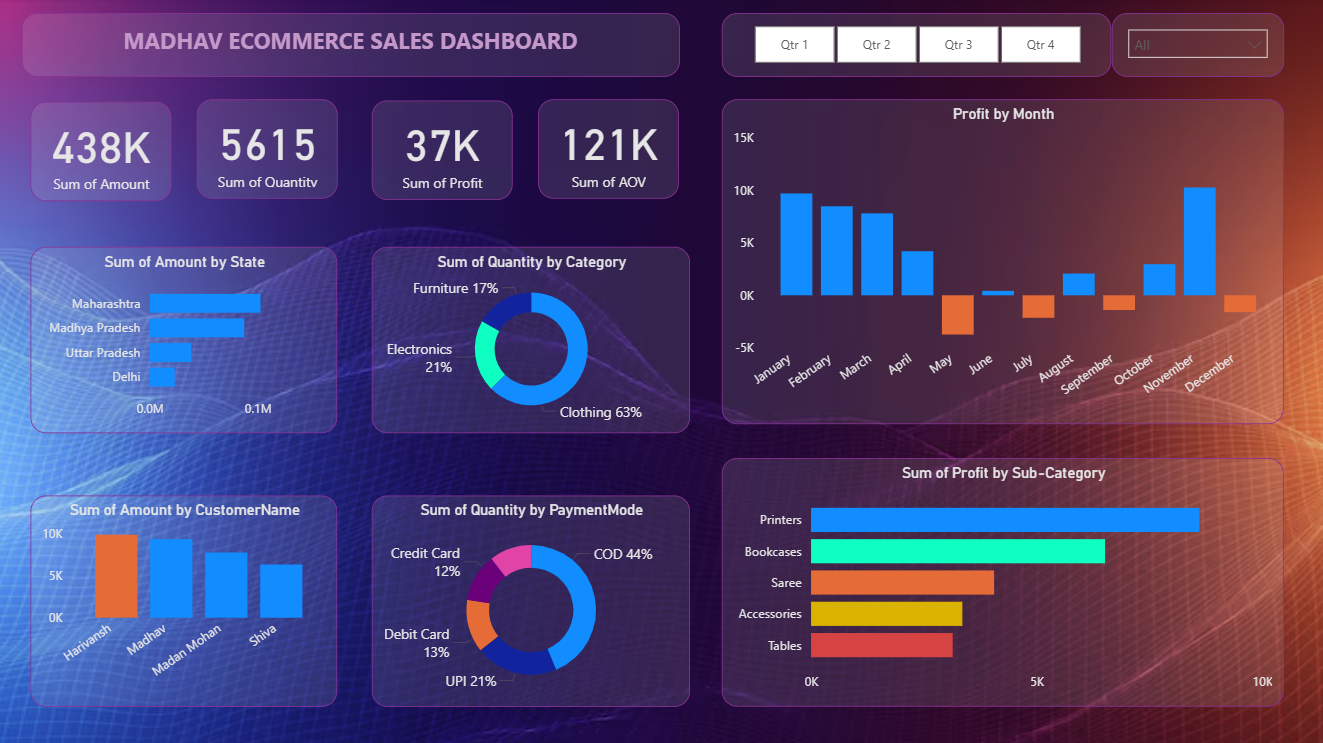

Layout of this report page (visuals, bound fields, positions):
{"tool":"powerbi","page":{"name":"Page 1","canvas":[1280,720],"ordinal":0},"visuals":[{"type":"textbox","box":[22.5,15,635,61.2],"z":0},{"type":"columnChart","title":"Profit by Month","fields":{"Category":["Orders.Order Date.Variation.Date Hierarchy.Month"],"Y":["Details.Profit"]},"box":[698.8,97.5,542.5,313.8],"z":1000},{"type":"barChart","fields":{"Category":["Details.Sub-Category"],"Y":["Details.Profit"]},"box":[698.8,443.8,542.5,240],"z":2000},{"type":"donutChart","fields":{"Category":["Details.Category"],"Y":["Details.Quantity"]},"box":[361.2,240,307.5,180],"z":3000},{"type":"donutChart","fields":{"Y":["Details.Quantity"],"Category":["Details.PaymentMode"]},"box":[361.2,480,307.5,203.8],"z":4000},{"type":"card","fields":{"Values":["Details.Amount"]},"box":[31.2,100,136.2,96.2],"z":5000},{"type":"card","fields":{"Values":["Details.Quantity"]},"box":[191.2,97.5,136.2,96.2],"z":6000},{"type":"card","fields":{"Values":["Details.Profit"]},"box":[361.2,98.8,136.2,96.2],"z":7000},{"type":"card","fields":{"Values":["Details.AOV"]},"box":[521.2,97.5,136.2,96.2],"z":8000},{"type":"barChart","fields":{"Category":["Orders.State"],"Y":["Details.Amount"]},"box":[31.2,240,296.2,180],"z":9000},{"type":"columnChart","fields":{"Category":["Orders.CustomerName"],"Y":["Details.Amount"]},"box":[31.2,480,296.2,203.8],"z":10000},{"type":"slicer","fields":{"Values":["Orders.Order Date.Variation.Date Hierarchy.Quarter"]},"box":[698.8,15,376.2,61.2],"z":11000},{"type":"slicer","fields":{"Values":["Orders.State"]},"box":[1075,15,166.2,61.2],"z":12000}]}

Visuals, with their boxes in screenshot pixels (x1, y1, x2, y2), scaled from the page's 1280x720 canvas onto the 1323x743 screenshot:
textbox: x1=23 y1=15 x2=680 y2=79
"Profit by Month" columnChart: x1=722 y1=101 x2=1283 y2=424
barChart - Details.Sub-Category x Details.Profit: x1=722 y1=458 x2=1283 y2=706
donutChart - Details.Category x Details.Quantity: x1=373 y1=248 x2=691 y2=433
donutChart - Details.Quantity x Details.PaymentMode: x1=373 y1=495 x2=691 y2=706
card - Details.Amount: x1=32 y1=103 x2=173 y2=202
card - Details.Quantity: x1=198 y1=101 x2=338 y2=200
card - Details.Profit: x1=373 y1=102 x2=514 y2=201
card - Details.AOV: x1=539 y1=101 x2=679 y2=200
barChart - Orders.State x Details.Amount: x1=32 y1=248 x2=338 y2=433
columnChart - Orders.CustomerName x Details.Amount: x1=32 y1=495 x2=338 y2=706
slicer - Orders.Order Date.Variation.Date Hierarchy.Quarter: x1=722 y1=15 x2=1111 y2=79
slicer - Orders.State: x1=1111 y1=15 x2=1283 y2=79
